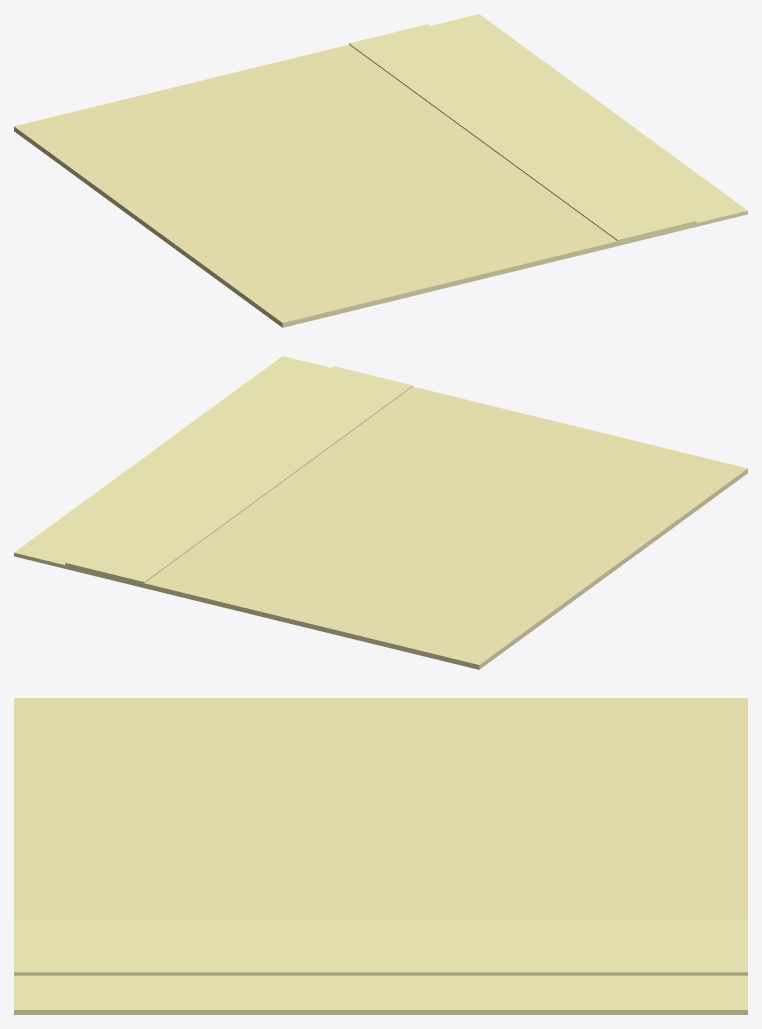
The model's file is road_gutter_transition.glb.
The picture shows the model from 3 angles, top to bottom: view 1: azimuth 30°, elevation 25°; view 2: azimuth 150°, elevation 25°; view 3: azimuth 270°, elevation 25°; orthographic projection. The views are drawn at different scales.
Visible parts, largest first — view 1: lane, gutter, apron; view 2: lane, gutter, apron; view 3: lane, gutter, apron.
Part boxes in pixels (<box>): lane: <box>14,44,617,327</box>; gutter: <box>349,24,696,245</box>; apron: <box>431,14,747,226</box>; lane: <box>144,386,747,669</box>; gutter: <box>65,366,412,587</box>; apron: <box>14,356,330,568</box>; lane: <box>14,698,747,919</box>; gutter: <box>14,919,747,975</box>; apron: <box>14,975,747,1014</box>.
Bounding box in the file's own units: 4 × 0.05 × 4.
